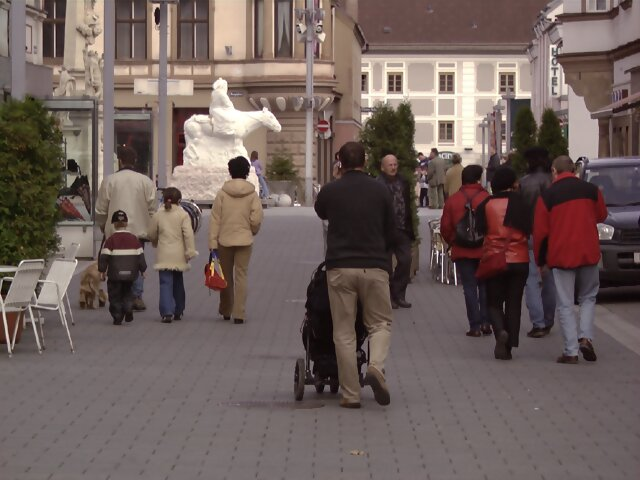person: (311, 140, 415, 410), (532, 155, 616, 360), (372, 147, 433, 314), (209, 153, 267, 325), (148, 185, 202, 329), (93, 209, 144, 325), (100, 143, 156, 229)
